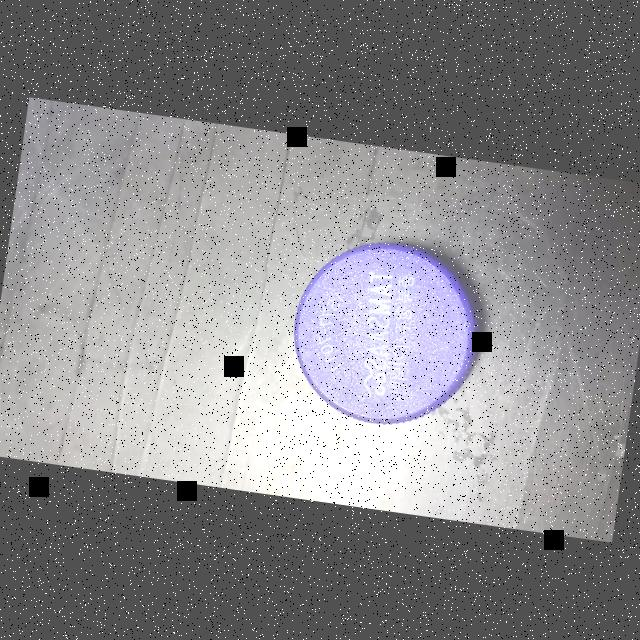plastic_bottle_cap: (278, 227, 494, 438)
